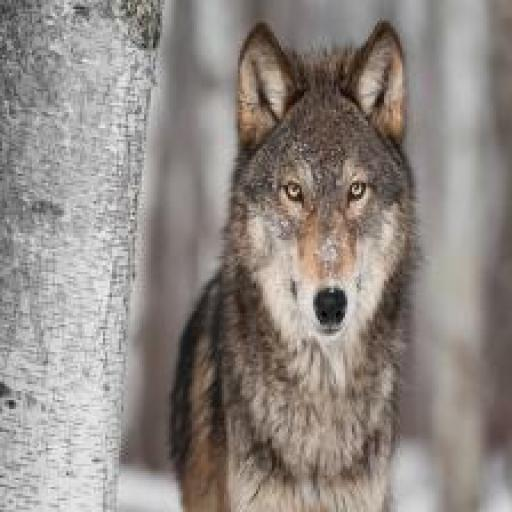wolf: (178, 7, 457, 512)
